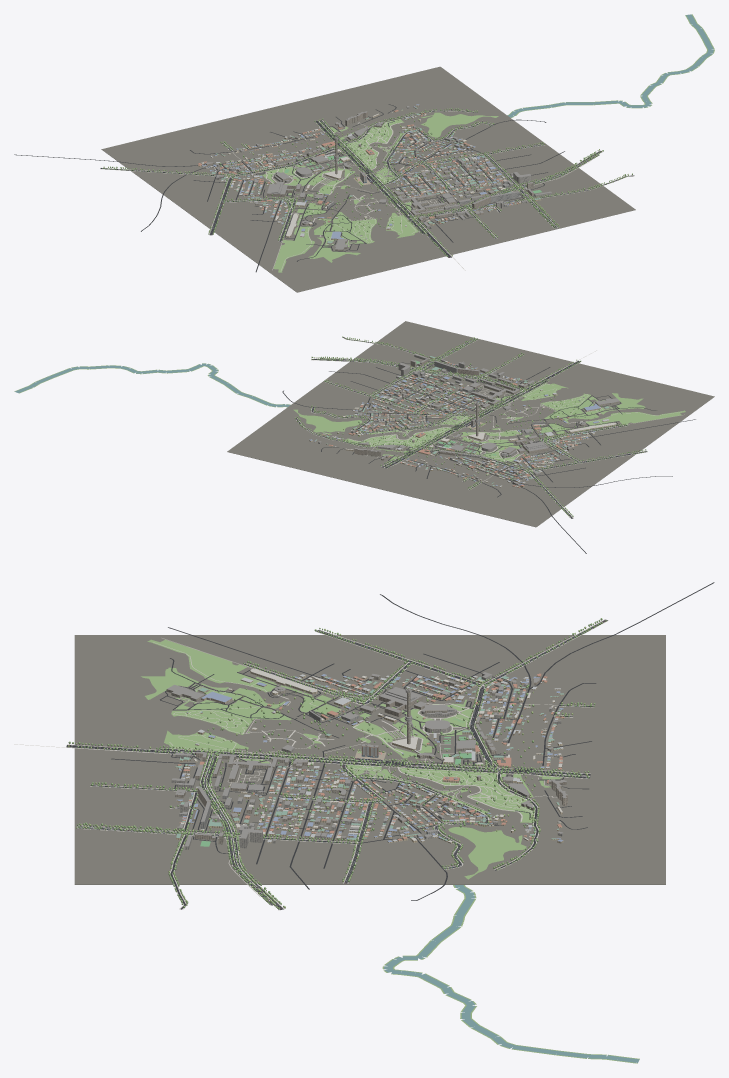
File: tsh-park-finished.glb
3 renders of one model, top to bottom at view 1: azimuth 30°, elevation 25°; view 2: azimuth 150°, elevation 25°; view 3: azimuth 270°, elevation 25°, orthographic. The views are drawn at different scales.
Bounding box in the file's own units: 3853 × 212 × 2371.
Materials: 46 (12 with a texture image).
